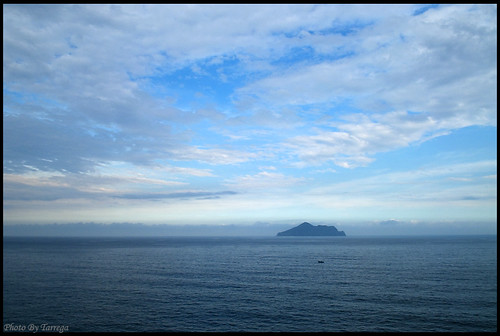turtleIsland: (275, 221, 346, 239)
